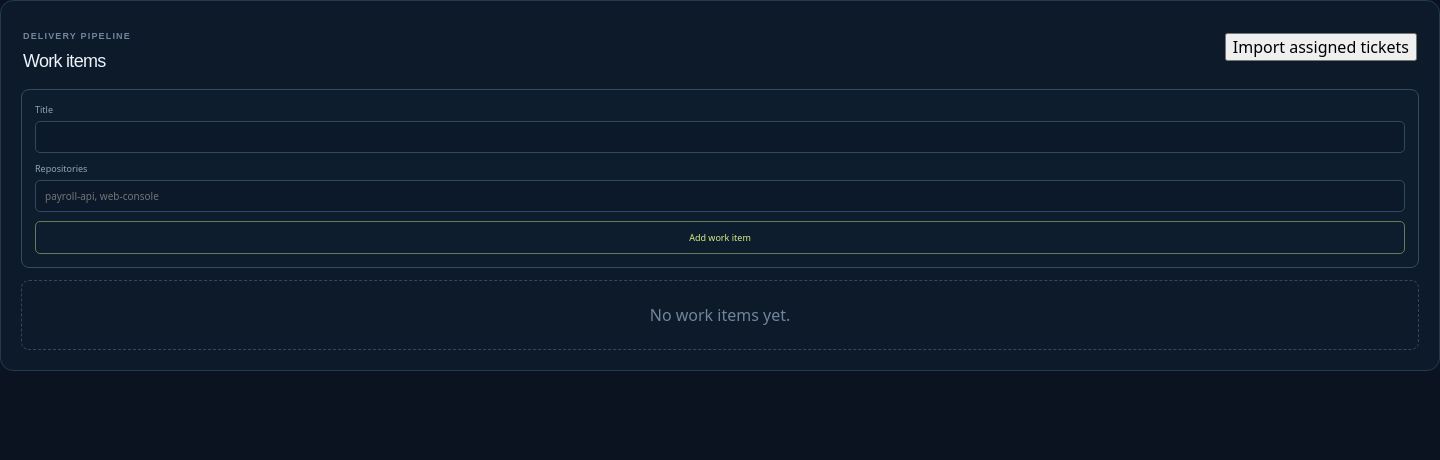
Scenario: WorkItemsPage › imports assigned tickets and refreshes the list
This screenshot has width=1440, height=460.
Expected: the text "No work items yet." is shown, [21,280,1419,350]
What coordinates should you click on to do the following:
click the button "Import assigned tickets"
I would click on:
 (1321, 47)
Its box is [1225,33,1417,61].
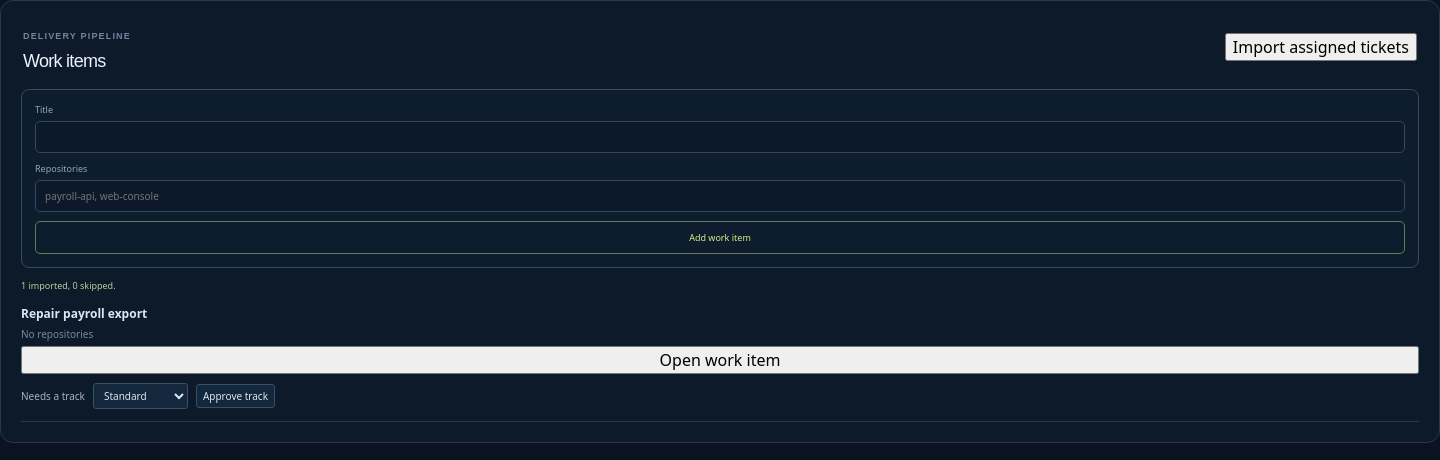
Result: the text "Repair payroll export" is shown at [21,305,147,322]
